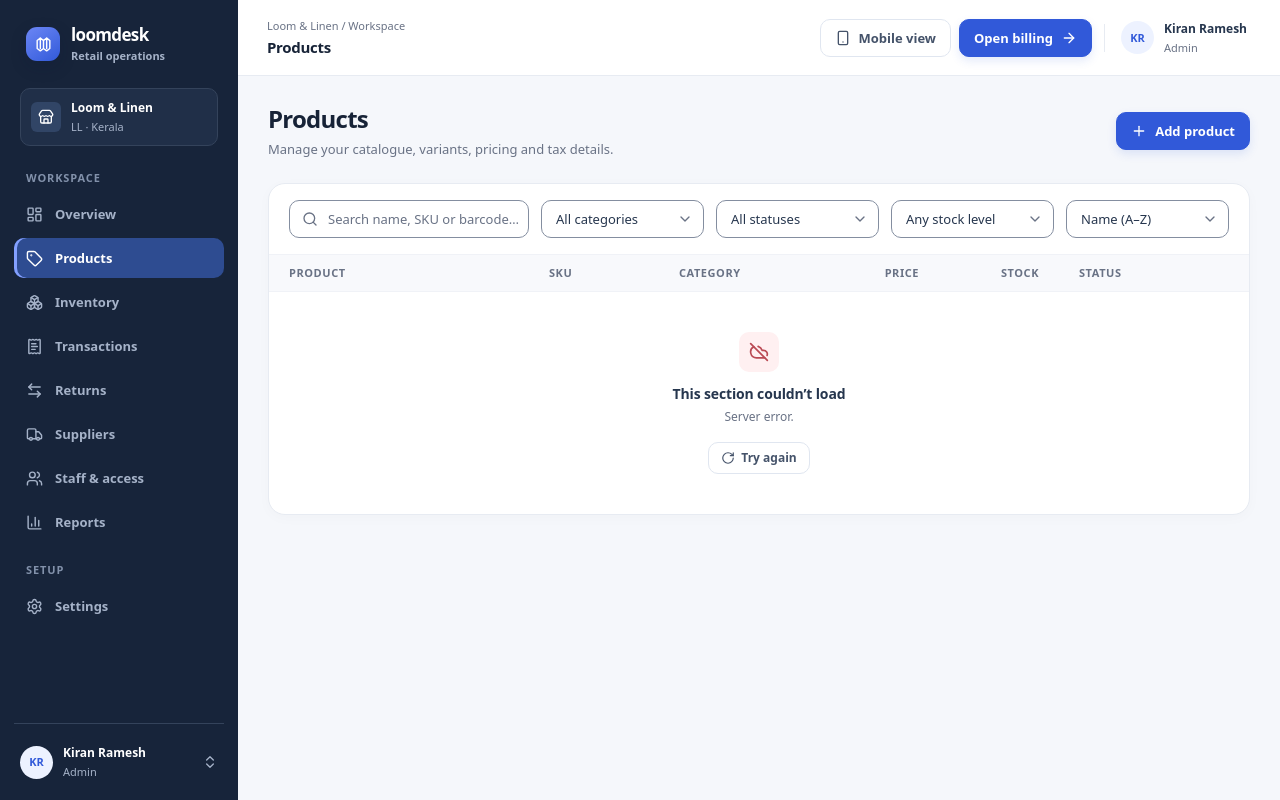
Test case: catalogue › shows a retryable error in the panel
The width and height of the screenshot is (1280, 800).
Expected: the text "Server error." is shown, [724,408,794,426]
Expected: the heading "Products" is shown, [268,102,368,135]
Click the button "Try again".
click(759, 458)  # box [708,442,810,474]
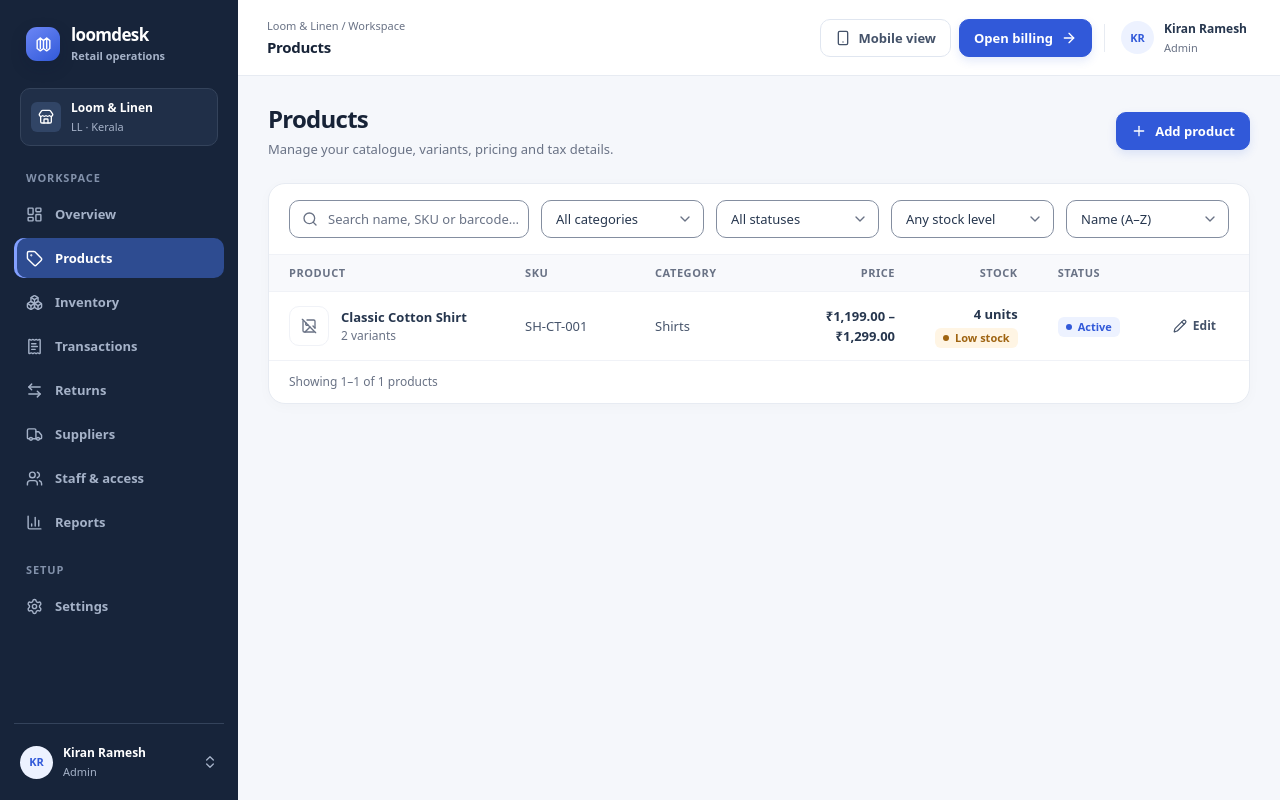
Now the link "Classic Cotton Shirt" is shown, box [341,308,467,326]
